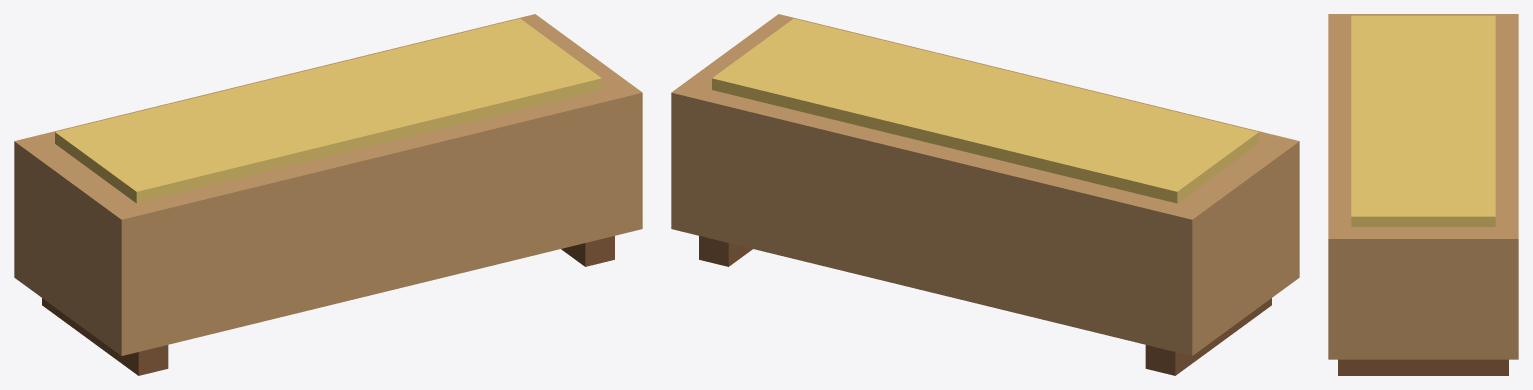
Rendered from trough.obj.
3 views of the same model, side by side, from view 1: azimuth 30°, elevation 25°; view 2: azimuth 150°, elevation 25°; view 3: azimuth 270°, elevation 25° (orthographic). The views are drawn at different scales.
Parts seen in each view (by area): view 1: trough; view 2: trough; view 3: trough.
Part boxes in pixels (<box>): trough: <box>14,14,642,375</box>; trough: <box>671,14,1299,375</box>; trough: <box>1328,14,1518,375</box>.
Bounding box in the file's own units: 1.4 × 0.455 × 0.5.
